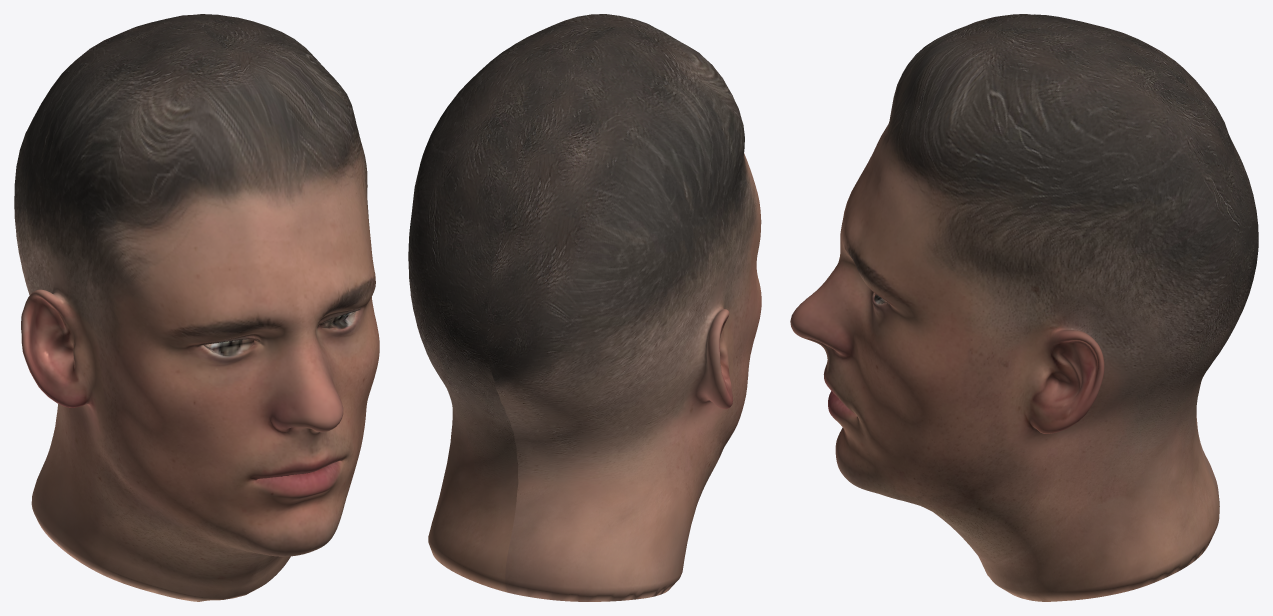
The model's file is kopf.glb.
3 renders of one model, left to right at view 1: azimuth 30°, elevation 25°; view 2: azimuth 150°, elevation 25°; view 3: azimuth 270°, elevation 25°, orthographic. The views are drawn at different scales.
Visible parts, largest first — view 1: FBHead; view 2: FBHead; view 3: FBHead.
Part boxes in pixels (<box>): FBHead: <box>14,14,379,601</box>; FBHead: <box>408,14,761,601</box>; FBHead: <box>790,14,1258,601</box>.
Size of the model in its own units: 145 by 243 by 188.
Materials: 2 (2 with a texture image).
